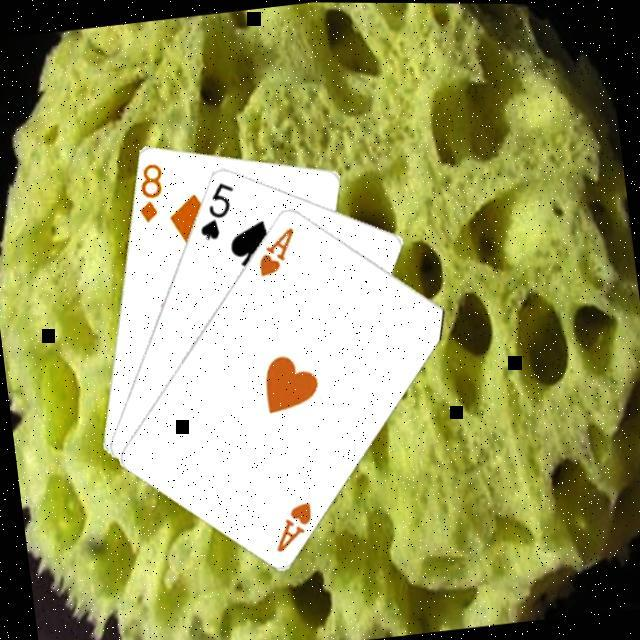5S: (189, 174, 240, 241)
8D: (128, 156, 168, 223)
AH: (248, 220, 300, 277), (265, 495, 316, 552)
